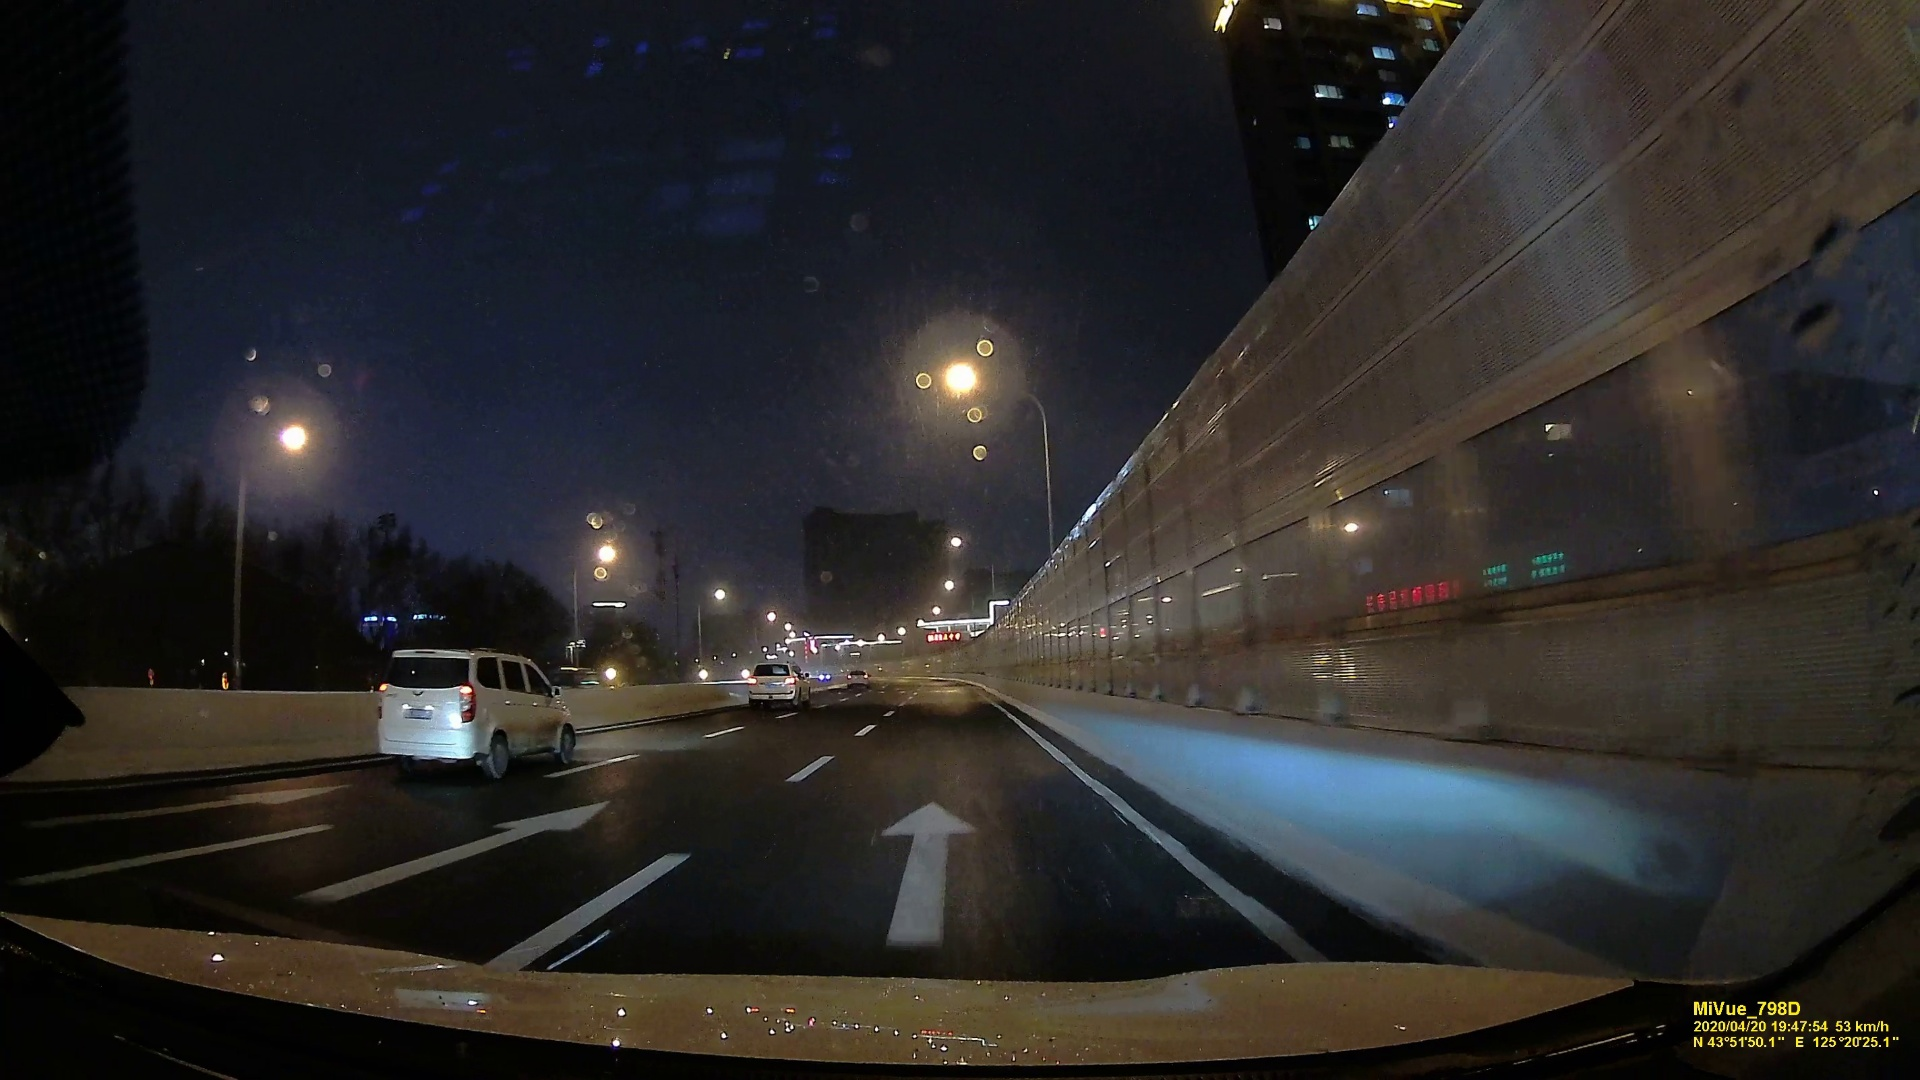minibus: (845, 669, 868, 688)
vehicle: (375, 646, 578, 779), (748, 659, 814, 709)
